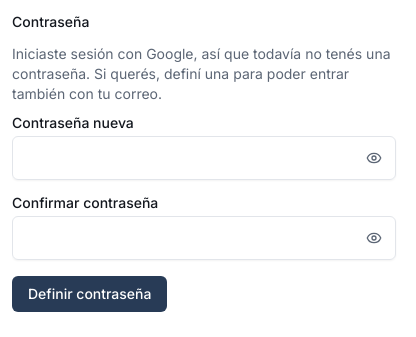
Test: PasswordSection › cuenta que entró con Google (hasPassword=false) › después de establecerla, el próximo cambio ya pide la contraseña actual
Type "unaClaveLarga1" into the password field labelled "Contraseña nueva" at (204, 158), box [12,136,396,180]
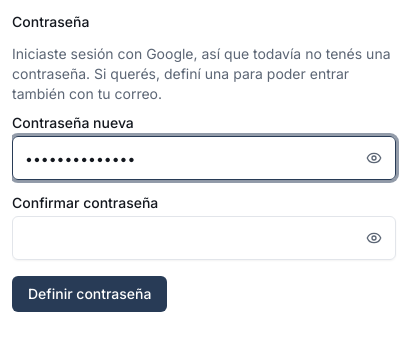
Type "unaClaveLarga1" into the password field labelled "Confirmar contraseña" at (204, 238), box [12,216,396,260]
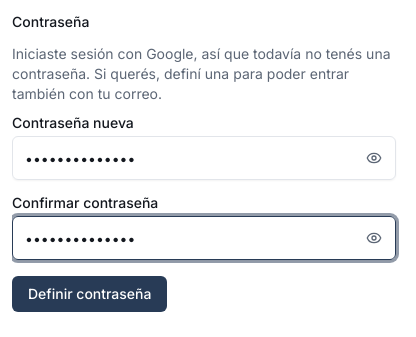
Click the button "Definir contraseña" at (90, 294), box [12,276,168,312]
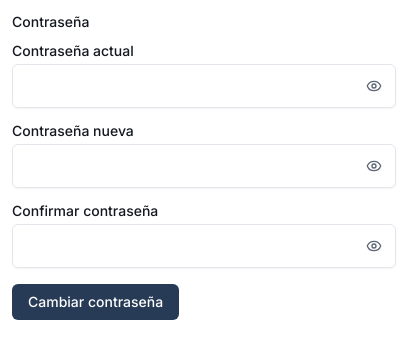
Expected: the password field labelled "Contraseña actual" is shown, [12,64,396,108]
